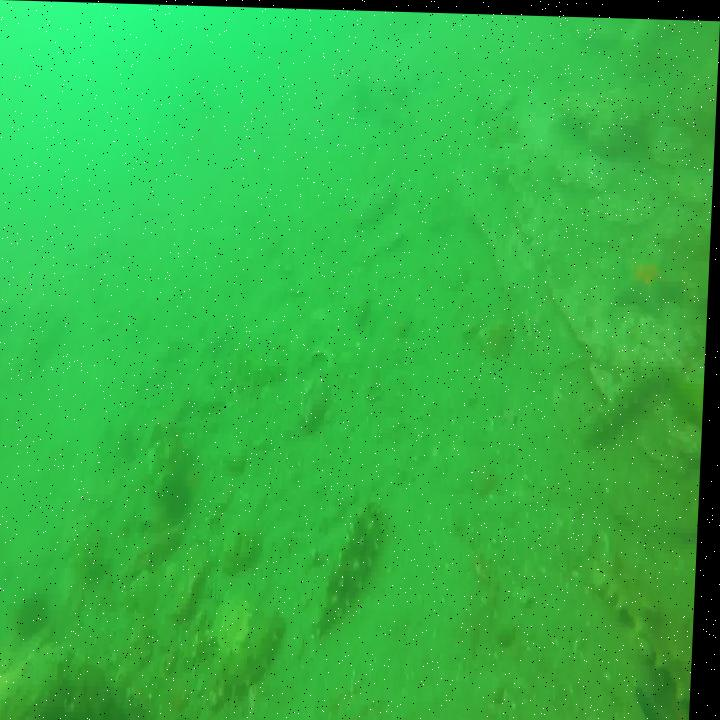echinus: (22, 588, 65, 635), (169, 468, 199, 520)
holothurian: (599, 538, 701, 694), (583, 343, 688, 450), (320, 495, 389, 633), (215, 605, 293, 701)
starfish: (616, 252, 689, 317)
